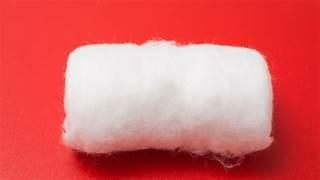cotton: (63, 41, 271, 155)
